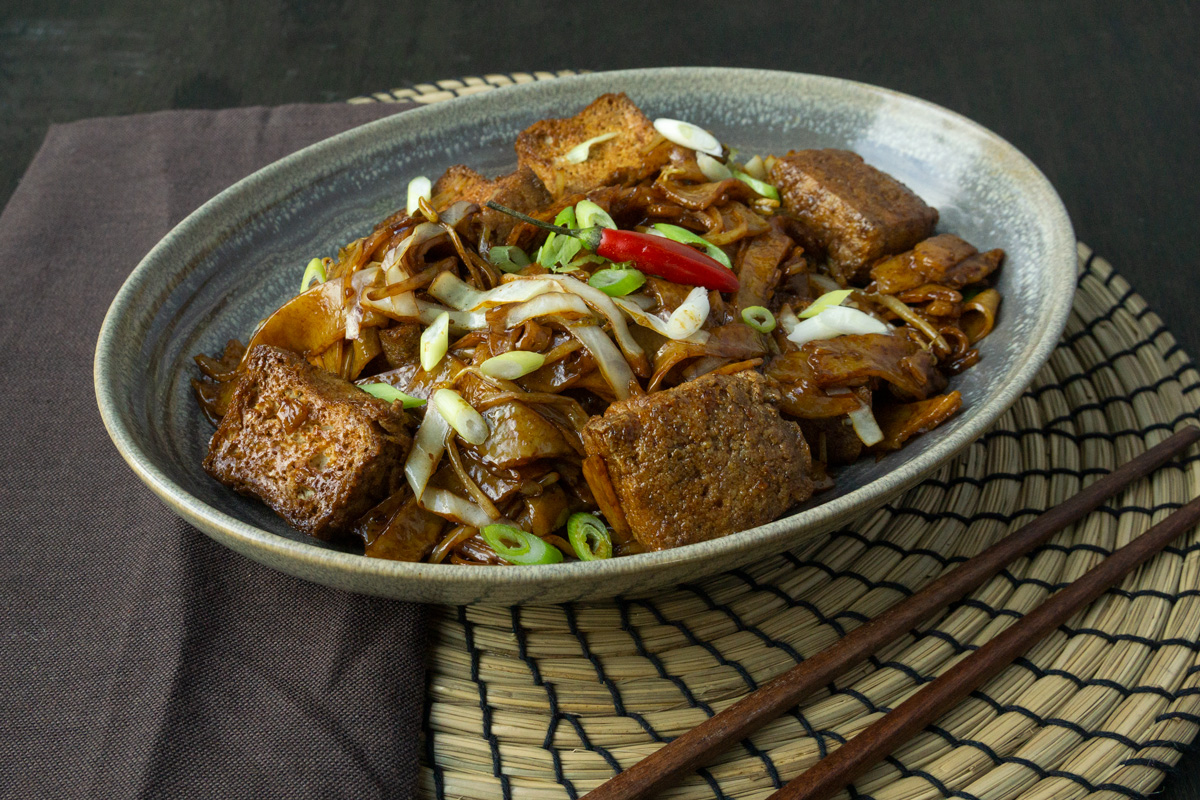Char Kway Teow: (189, 67, 1020, 552)
